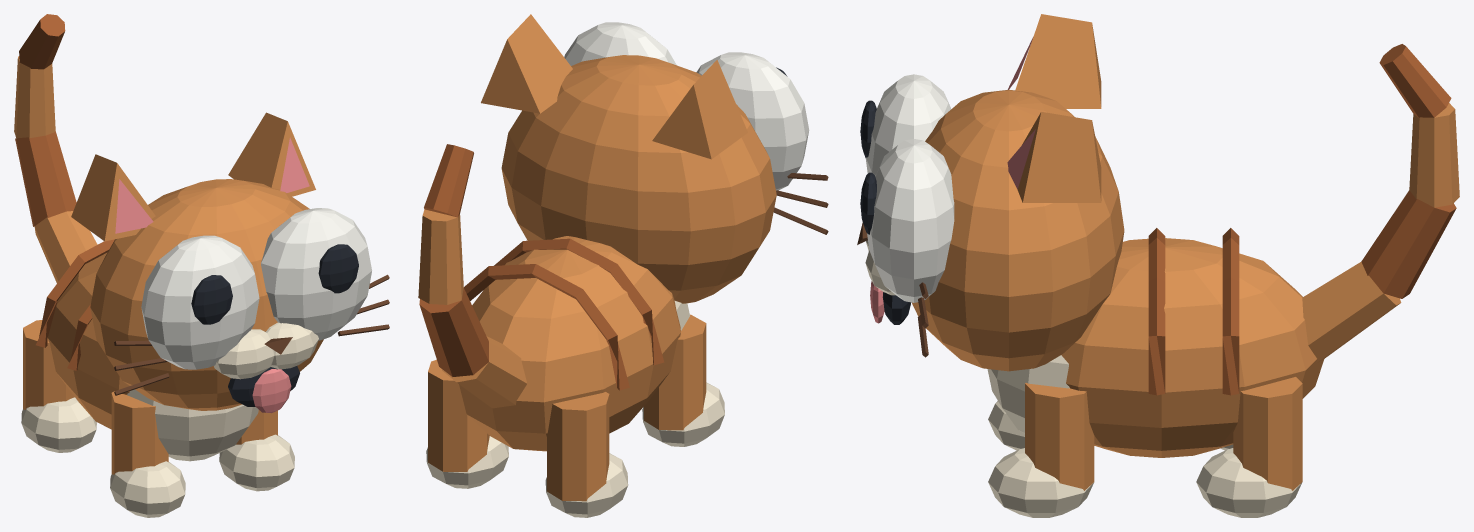
The model's file is Cat.fbx.
The picture shows the model from 3 angles, left to right: view 1: azimuth 30°, elevation 25°; view 2: azimuth 150°, elevation 25°; view 3: azimuth 270°, elevation 25°; orthographic projection. The views are drawn at different scales.
Parts seen in each view (by area): view 1: Body; view 2: Body; view 3: Body.
Boxes of the visible parts, x1,y1,x2,y2 form: Body: (14, 14, 389, 517); Body: (418, 14, 828, 517); Body: (857, 14, 1459, 517).
Bounding box in the file's own units: 0.8027 × 1.04 × 1.3.
